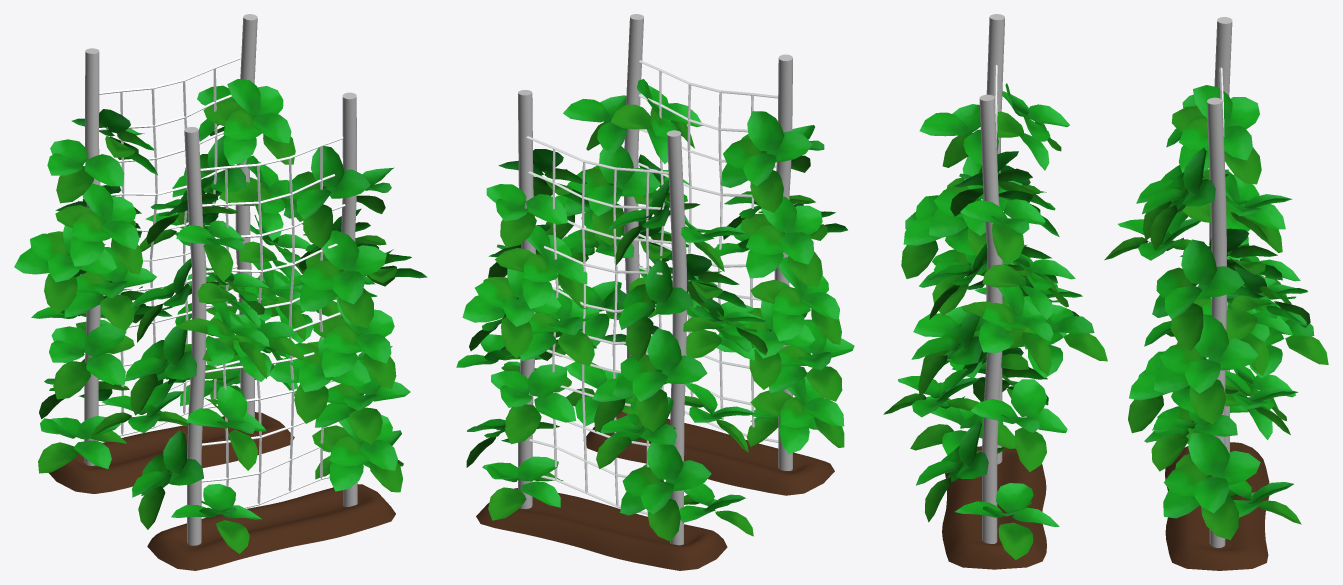
File: Cucumber5.fbx
3 views of the same model, side by side, from view 1: azimuth 30°, elevation 25°; view 2: azimuth 150°, elevation 25°; view 3: azimuth 270°, elevation 25° (orthographic). The views are drawn at different scales.
Visible parts, largest first — view 1: 4.001; view 2: 4.001; view 3: 4.001.
Boxes of the visible parts, box(x1,y1,x2,y2) form: 4.001: box(14, 14, 427, 570); 4.001: box(456, 14, 854, 570); 4.001: box(883, 14, 1328, 570).
Size of the model in its own units: 367 by 470 by 421.
